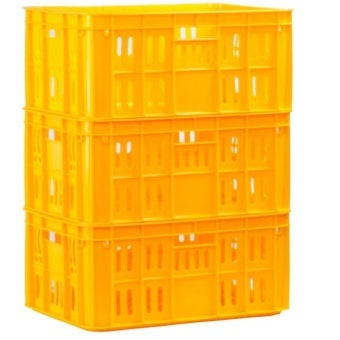plastic: (23, 4, 292, 329)
